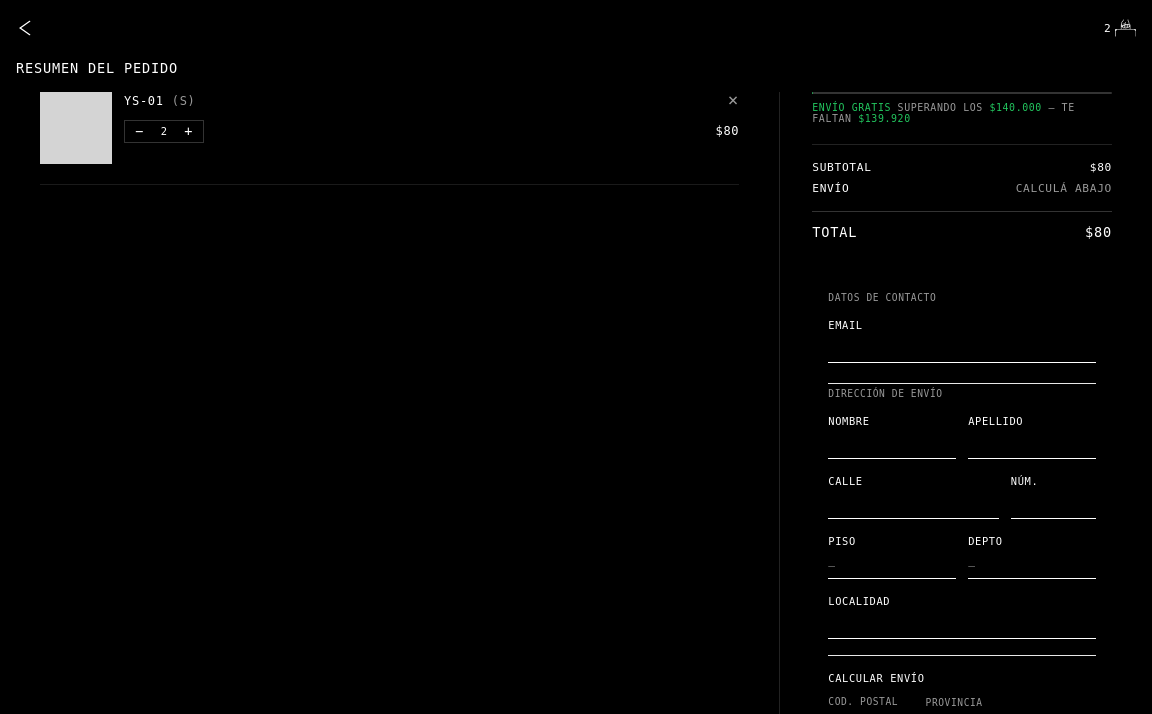
Cart › al tocar - en un item decrementa quantity
Click the button with test id "qty-decrease" at (140, 131), box x1=135 y1=125 x2=144 y2=138
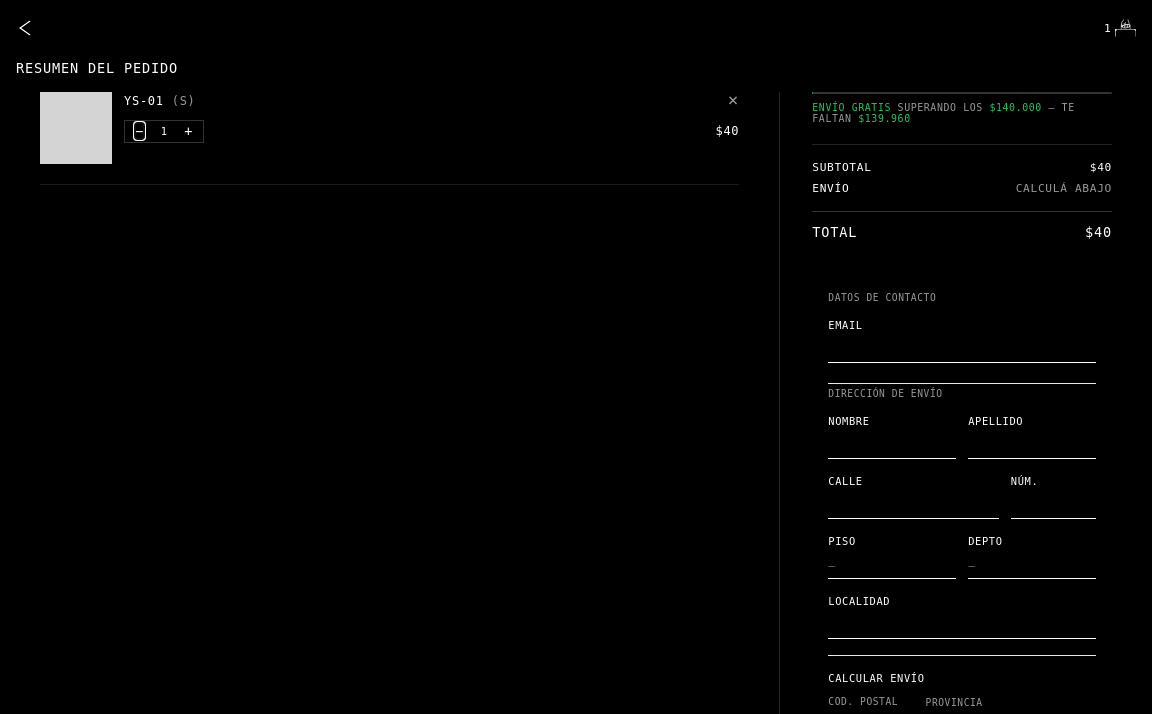
Result: the text with test id "item-qty" reads "1" at x1=161 y1=125 x2=168 y2=137
